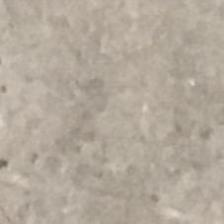Non_Crack: (14, 2, 224, 224)
